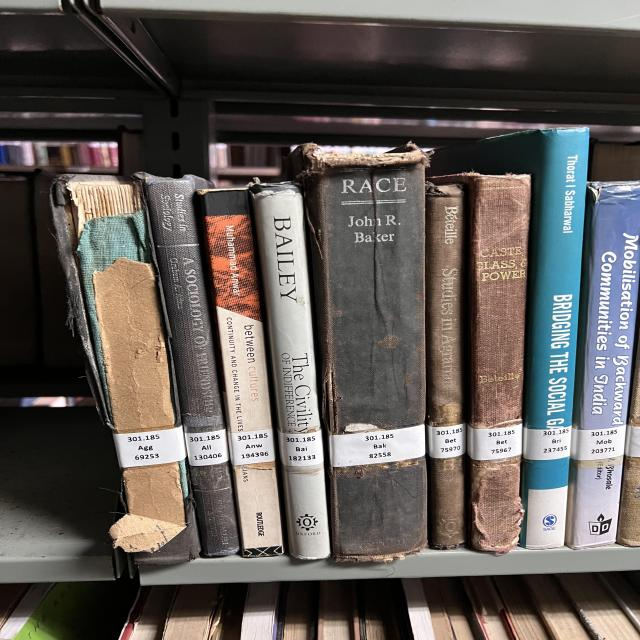Book: (292, 144, 428, 562), (52, 175, 198, 562), (477, 129, 588, 549), (137, 172, 240, 556), (432, 172, 530, 554), (198, 189, 283, 558), (252, 185, 330, 559), (565, 182, 640, 549), (425, 184, 467, 549)
Label: (328, 425, 425, 468), (113, 426, 187, 468), (570, 425, 627, 461), (467, 424, 522, 460), (523, 426, 572, 460), (230, 429, 275, 465), (185, 429, 228, 466), (278, 431, 323, 466), (427, 424, 467, 459)
